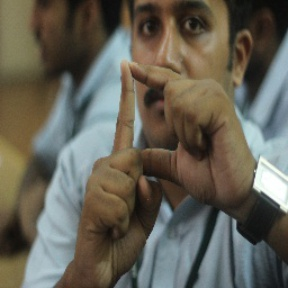D: (99, 55, 221, 197)
